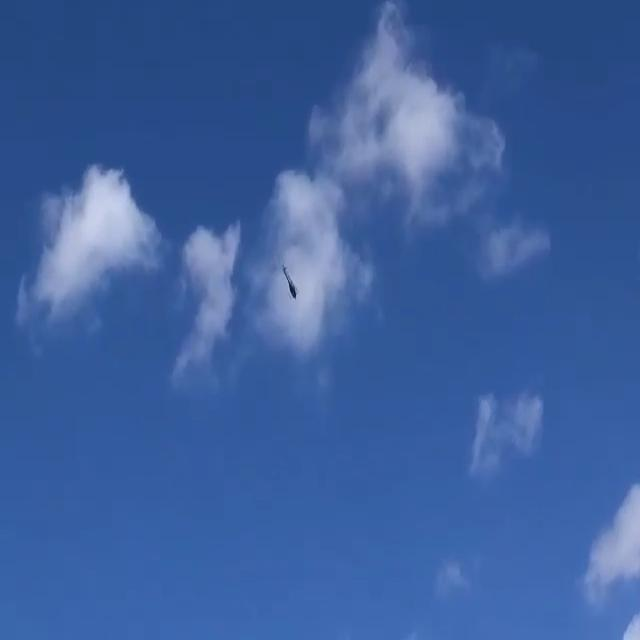Helicopter: (264, 252, 310, 310)
